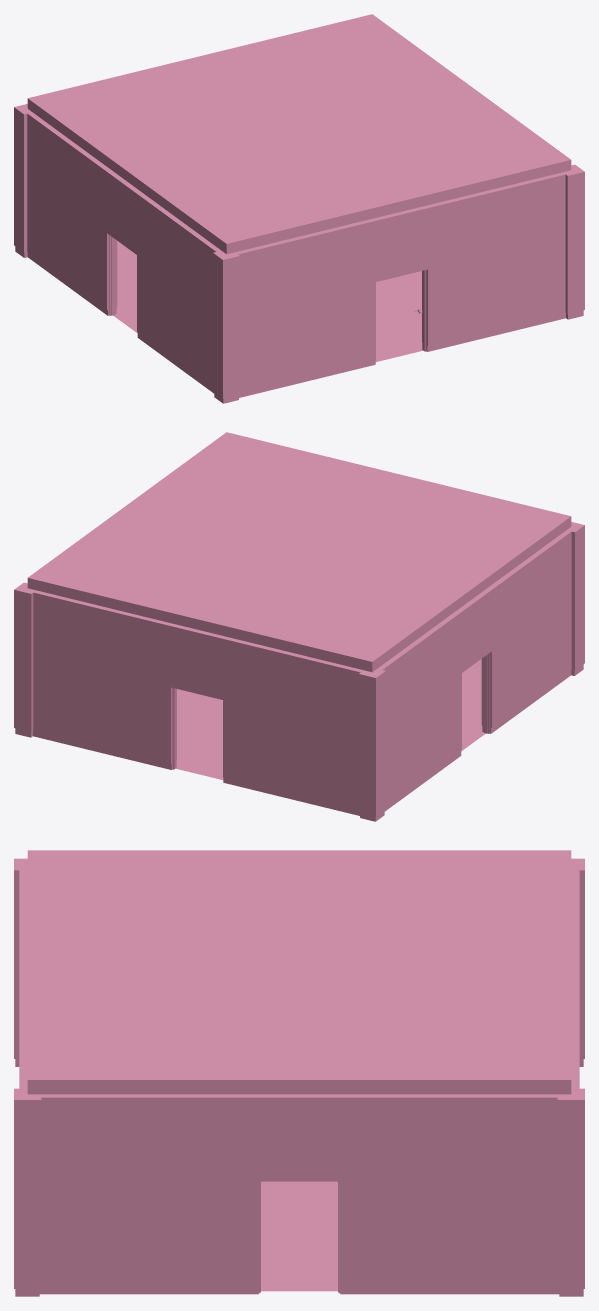
File: MAP1X1.fbx
3 renders of one model, top to bottom at view 1: azimuth 30°, elevation 25°; view 2: azimuth 150°, elevation 25°; view 3: azimuth 270°, elevation 25°, orthographic. The views are drawn at different scales.
Visible parts, largest first — view 1: Floor081, DoorWall013, DoorWall014, Floor001, Box005, Box229, Box235; view 2: Floor081, DoorWall011, DoorWall014, Floor001, Box235, Box230, Box005; view 3: Floor081, DoorWall012, Floor001, Box230, Box229, DoorWall011, DoorWall013, Box005, Box235.
Boxes of the visible parts, x1=… form: Floor081: x1=27, y1=14, x2=571, y2=254; DoorWall013: x1=228, y1=170, x2=573, y2=397; DoorWall014: x1=23, y1=108, x2=225, y2=393; Floor001: x1=113, y1=241, x2=422, y2=361; Box005: x1=213, y1=251, x2=240, y2=403; Box229: x1=565, y1=164, x2=584, y2=319; Box235: x1=14, y1=104, x2=29, y2=257; Floor081: x1=27, y1=432, x2=571, y2=672; DoorWall011: x1=30, y1=589, x2=371, y2=815; DoorWall014: x1=377, y1=528, x2=575, y2=811; Floor001: x1=176, y1=659, x2=485, y2=779; Box235: x1=358, y1=669, x2=385, y2=821; Box230: x1=14, y1=582, x2=35, y2=737; Box005: x1=567, y1=522, x2=584, y2=675; Floor081: x1=27, y1=850, x2=571, y2=1094; DoorWall012: x1=39, y1=1094, x2=569, y2=1294; Floor001: x1=261, y1=1181, x2=337, y2=1291; Box230: x1=557, y1=1088, x2=584, y2=1296; Box229: x1=14, y1=1088, x2=41, y2=1296; DoorWall011: x1=571, y1=864, x2=579, y2=1088; DoorWall013: x1=19, y1=865, x2=27, y2=1094; Box005: x1=14, y1=858, x2=27, y2=1066; Box235: x1=571, y1=858, x2=584, y2=1066.
Size of the model in its own units: 105 by 42.88 by 105.
